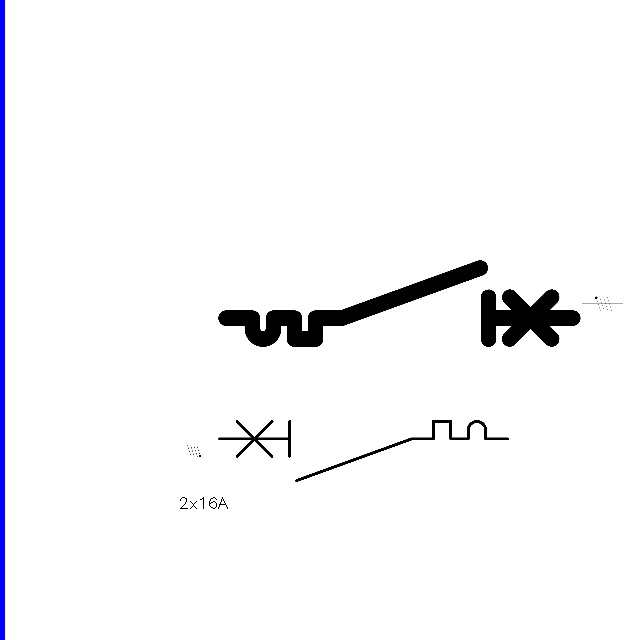interruptor_termomagnetico: (217, 259, 582, 348), (212, 414, 514, 488)
